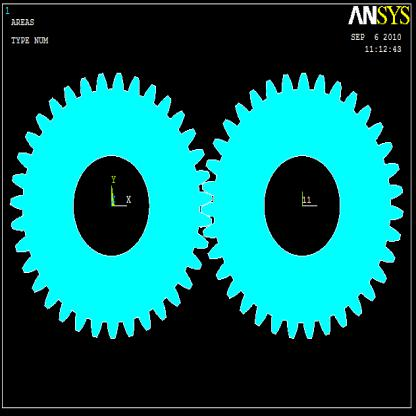FOD: (201, 68, 409, 346), (9, 70, 213, 342)
